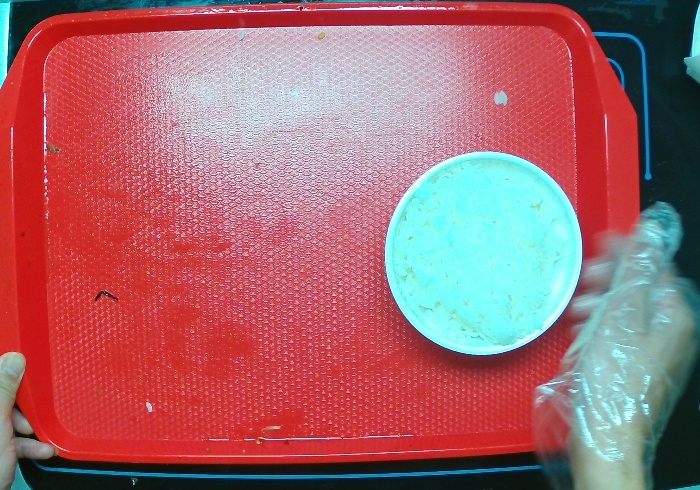YKMZ-Fan_Wan: (379, 147, 584, 362)
